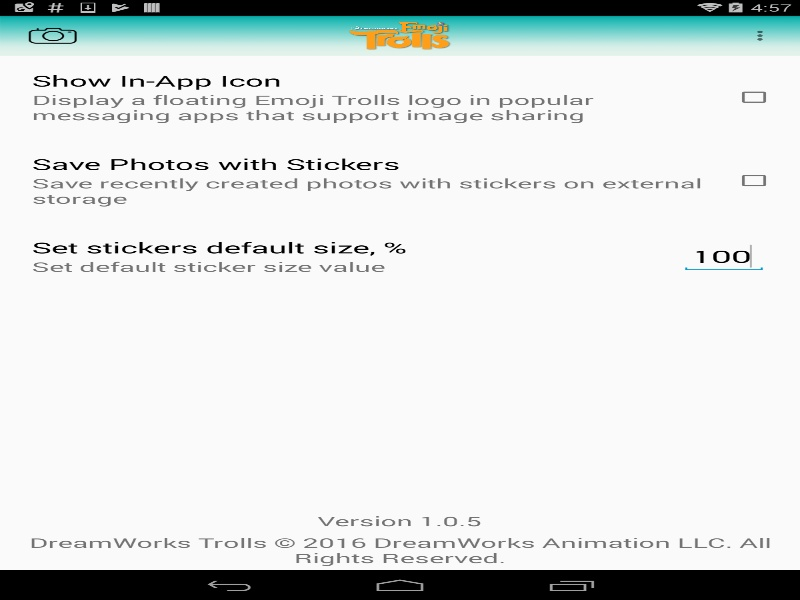Input: (680, 240, 767, 272)
